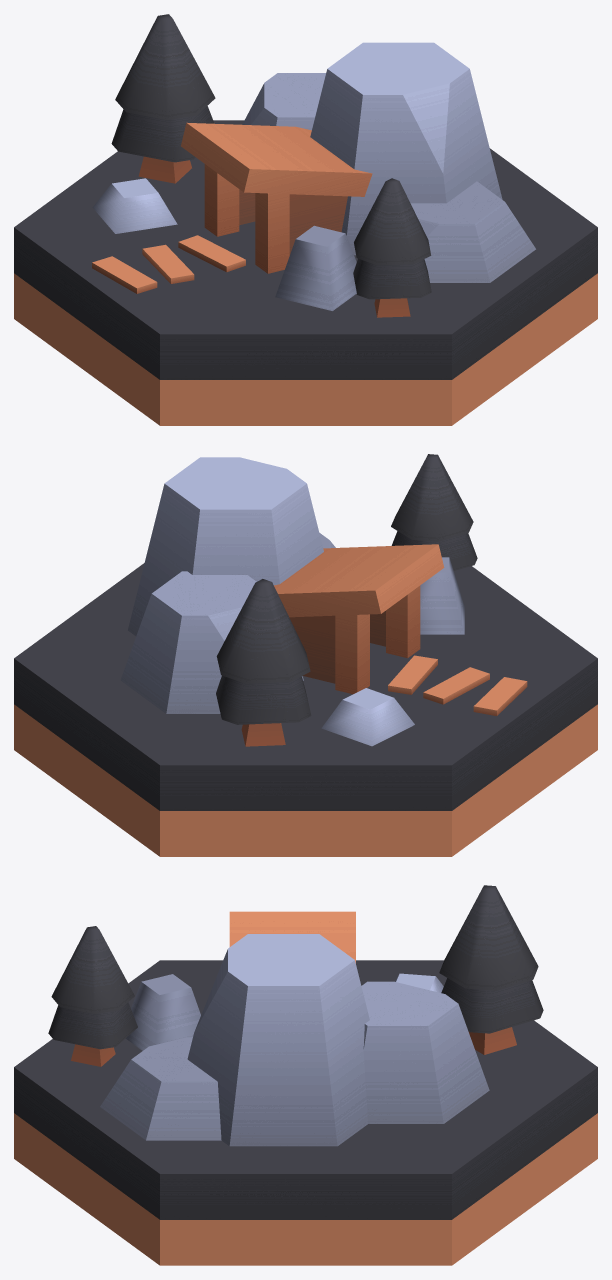
Rendered from mine_ore.glb.
3 renders of one model, top to bottom at view 1: azimuth 30°, elevation 25°; view 2: azimuth 150°, elevation 25°; view 3: azimuth 270°, elevation 25°, orthographic.
Parts seen in each view (by area): view 1: building-mine; view 2: building-mine; view 3: building-mine.
Part boxes in pixels (x1,y1,x2,y2): building-mine: (14,14,597,425); building-mine: (14,454,597,856); building-mine: (14,885,597,1265).
Size of the model in its own units: 1 by 0.5382 by 1.15.
Materials: 1 (1 with a texture image).
